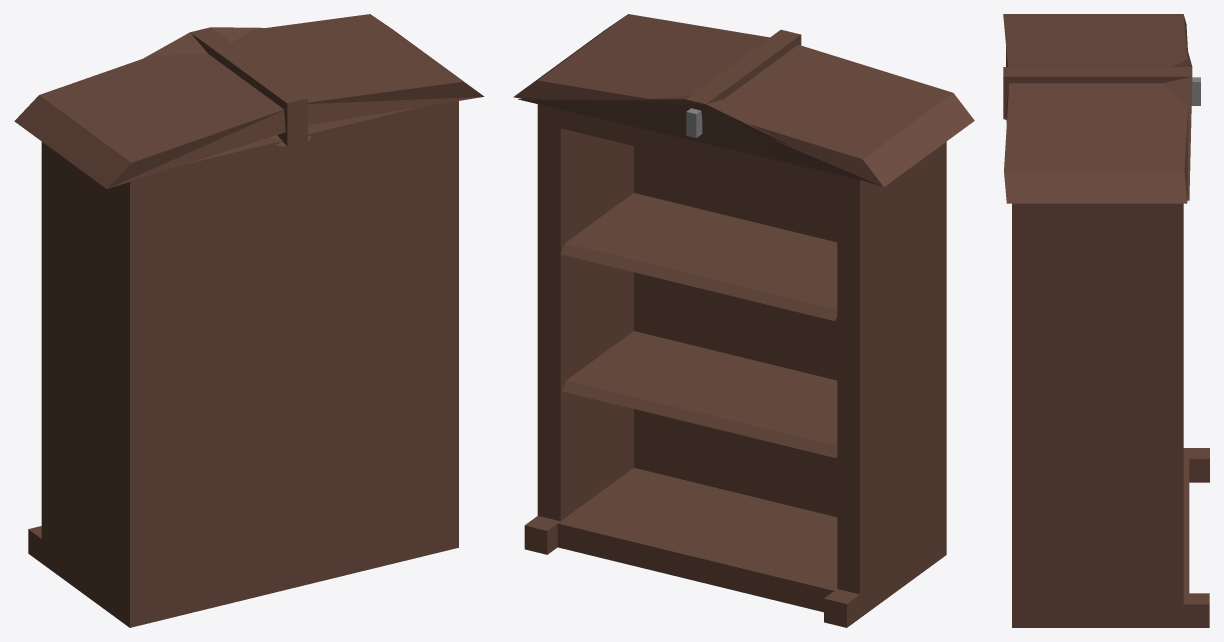
3 views of the same model, side by side, from view 1: azimuth 30°, elevation 25°; view 2: azimuth 150°, elevation 25°; view 3: azimuth 270°, elevation 25° (orthographic). The views are drawn at different scales.
Parts seen in each view (by area): view 1: node_MeshObject-266466880-PolyPaper20; view 2: node_MeshObject-266466880-PolyPaper20; view 3: node_MeshObject-266466880-PolyPaper20.
Part boxes in pixels (x1,y1,x2,y2): node_MeshObject-266466880-PolyPaper20: [14, 14, 484, 627]; node_MeshObject-266466880-PolyPaper20: [513, 14, 974, 627]; node_MeshObject-266466880-PolyPaper20: [1003, 14, 1209, 627].
Bounding box in the file's own units: 1.46 × 1.81 × 0.7101.
